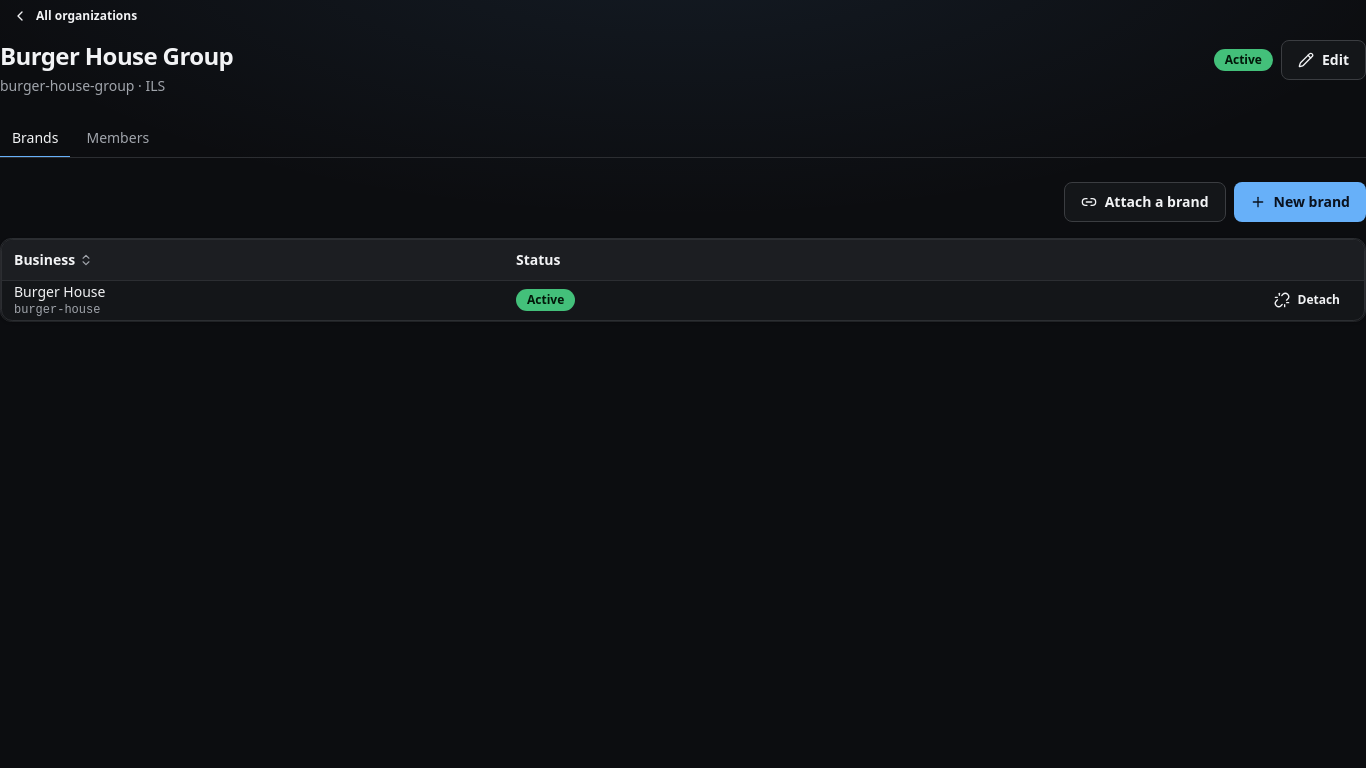
Test case: OrganizationDetailPage brands › shows why a brand of another organization cannot be attached
Click the button "Attach a brand" at point(1145, 202), box [1064, 182, 1226, 222]
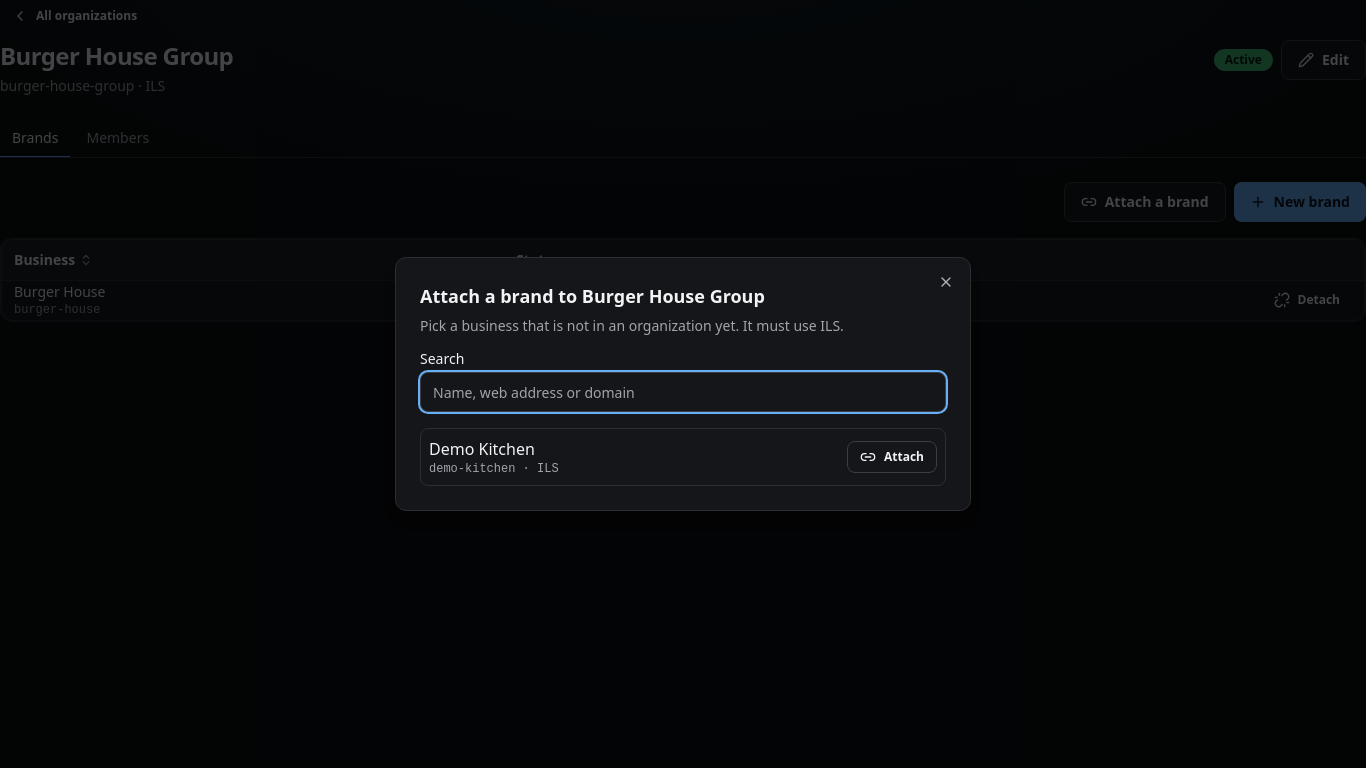
Click the button with aria-label "Attach: Demo" at point(892, 457), box [847, 441, 937, 473]
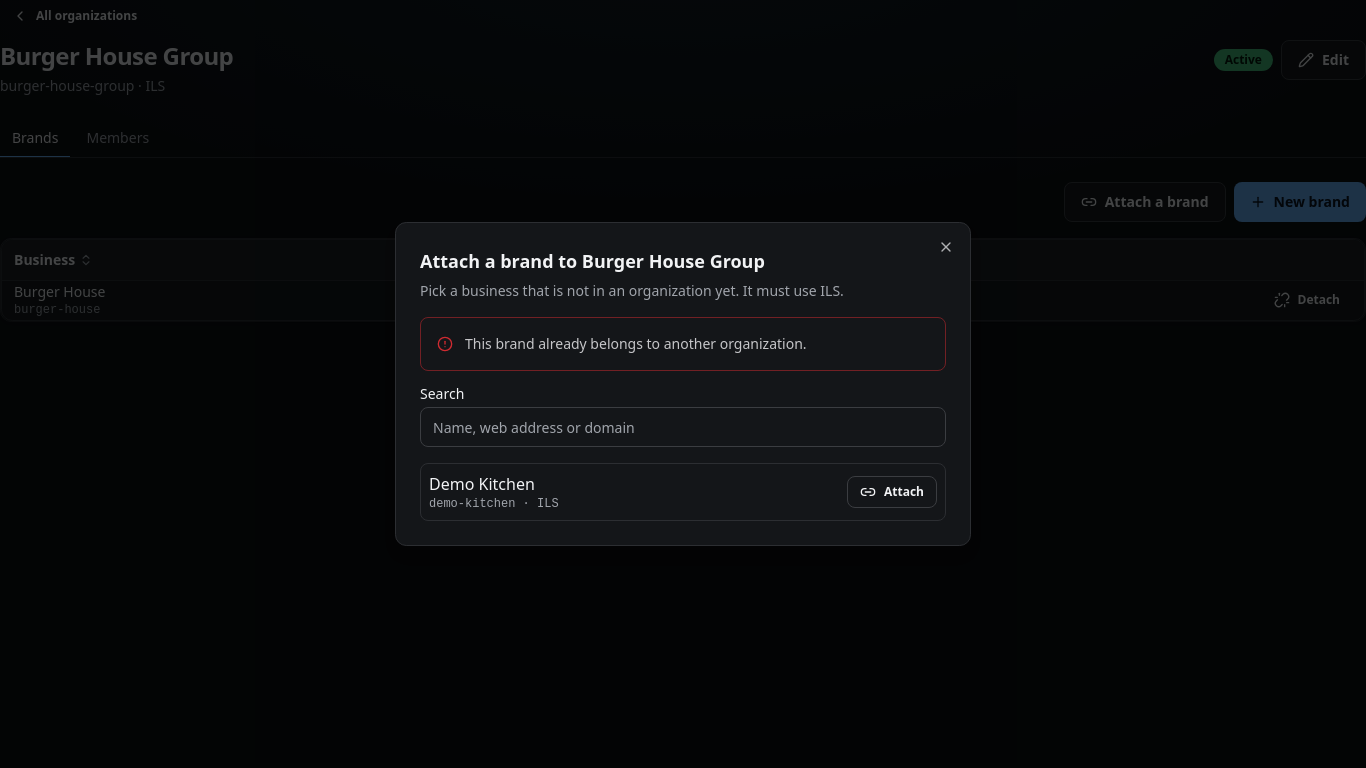
Check: the text "This brand already belongs to another organization." is shown, box [465, 334, 806, 353]
